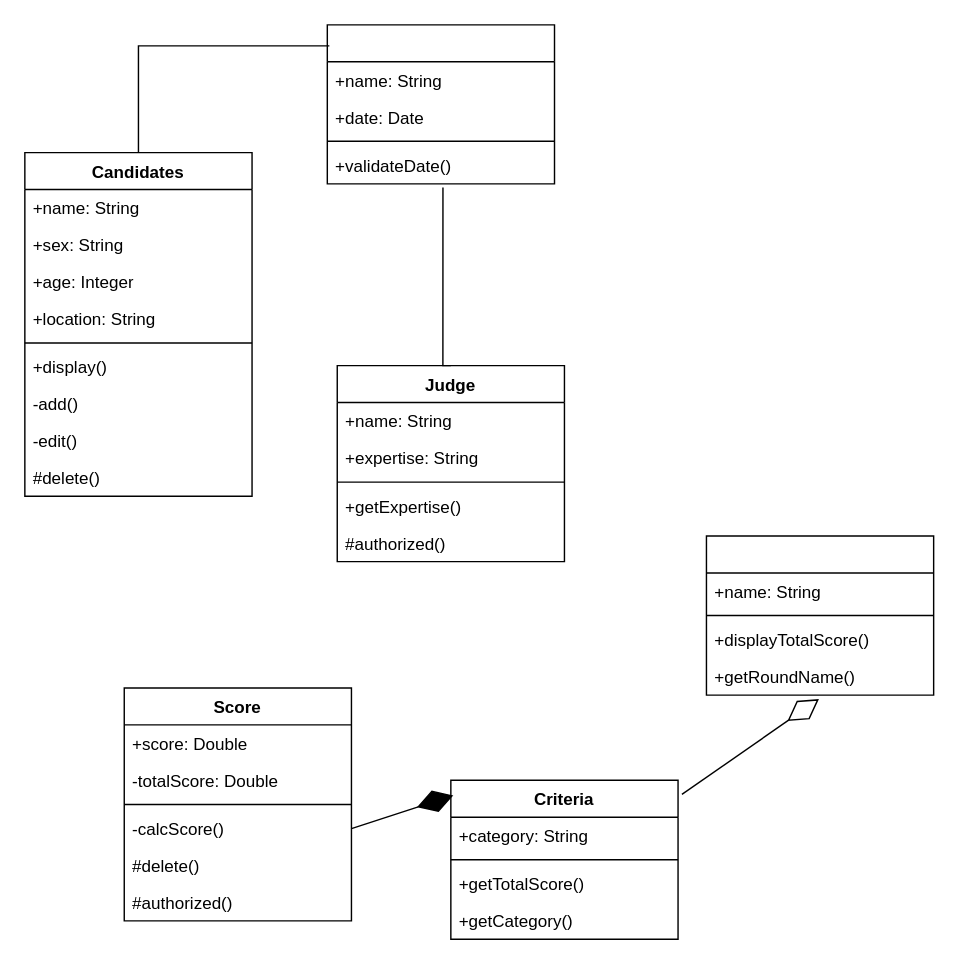
Some shapes in this 959 by 968 pixel diagram are drawn without their labels. The box of each missing label's shape, as (x1, y1, x2, y2) in pixels:
Event: (326, 23, 555, 184)
Rounds: (705, 535, 934, 695)
